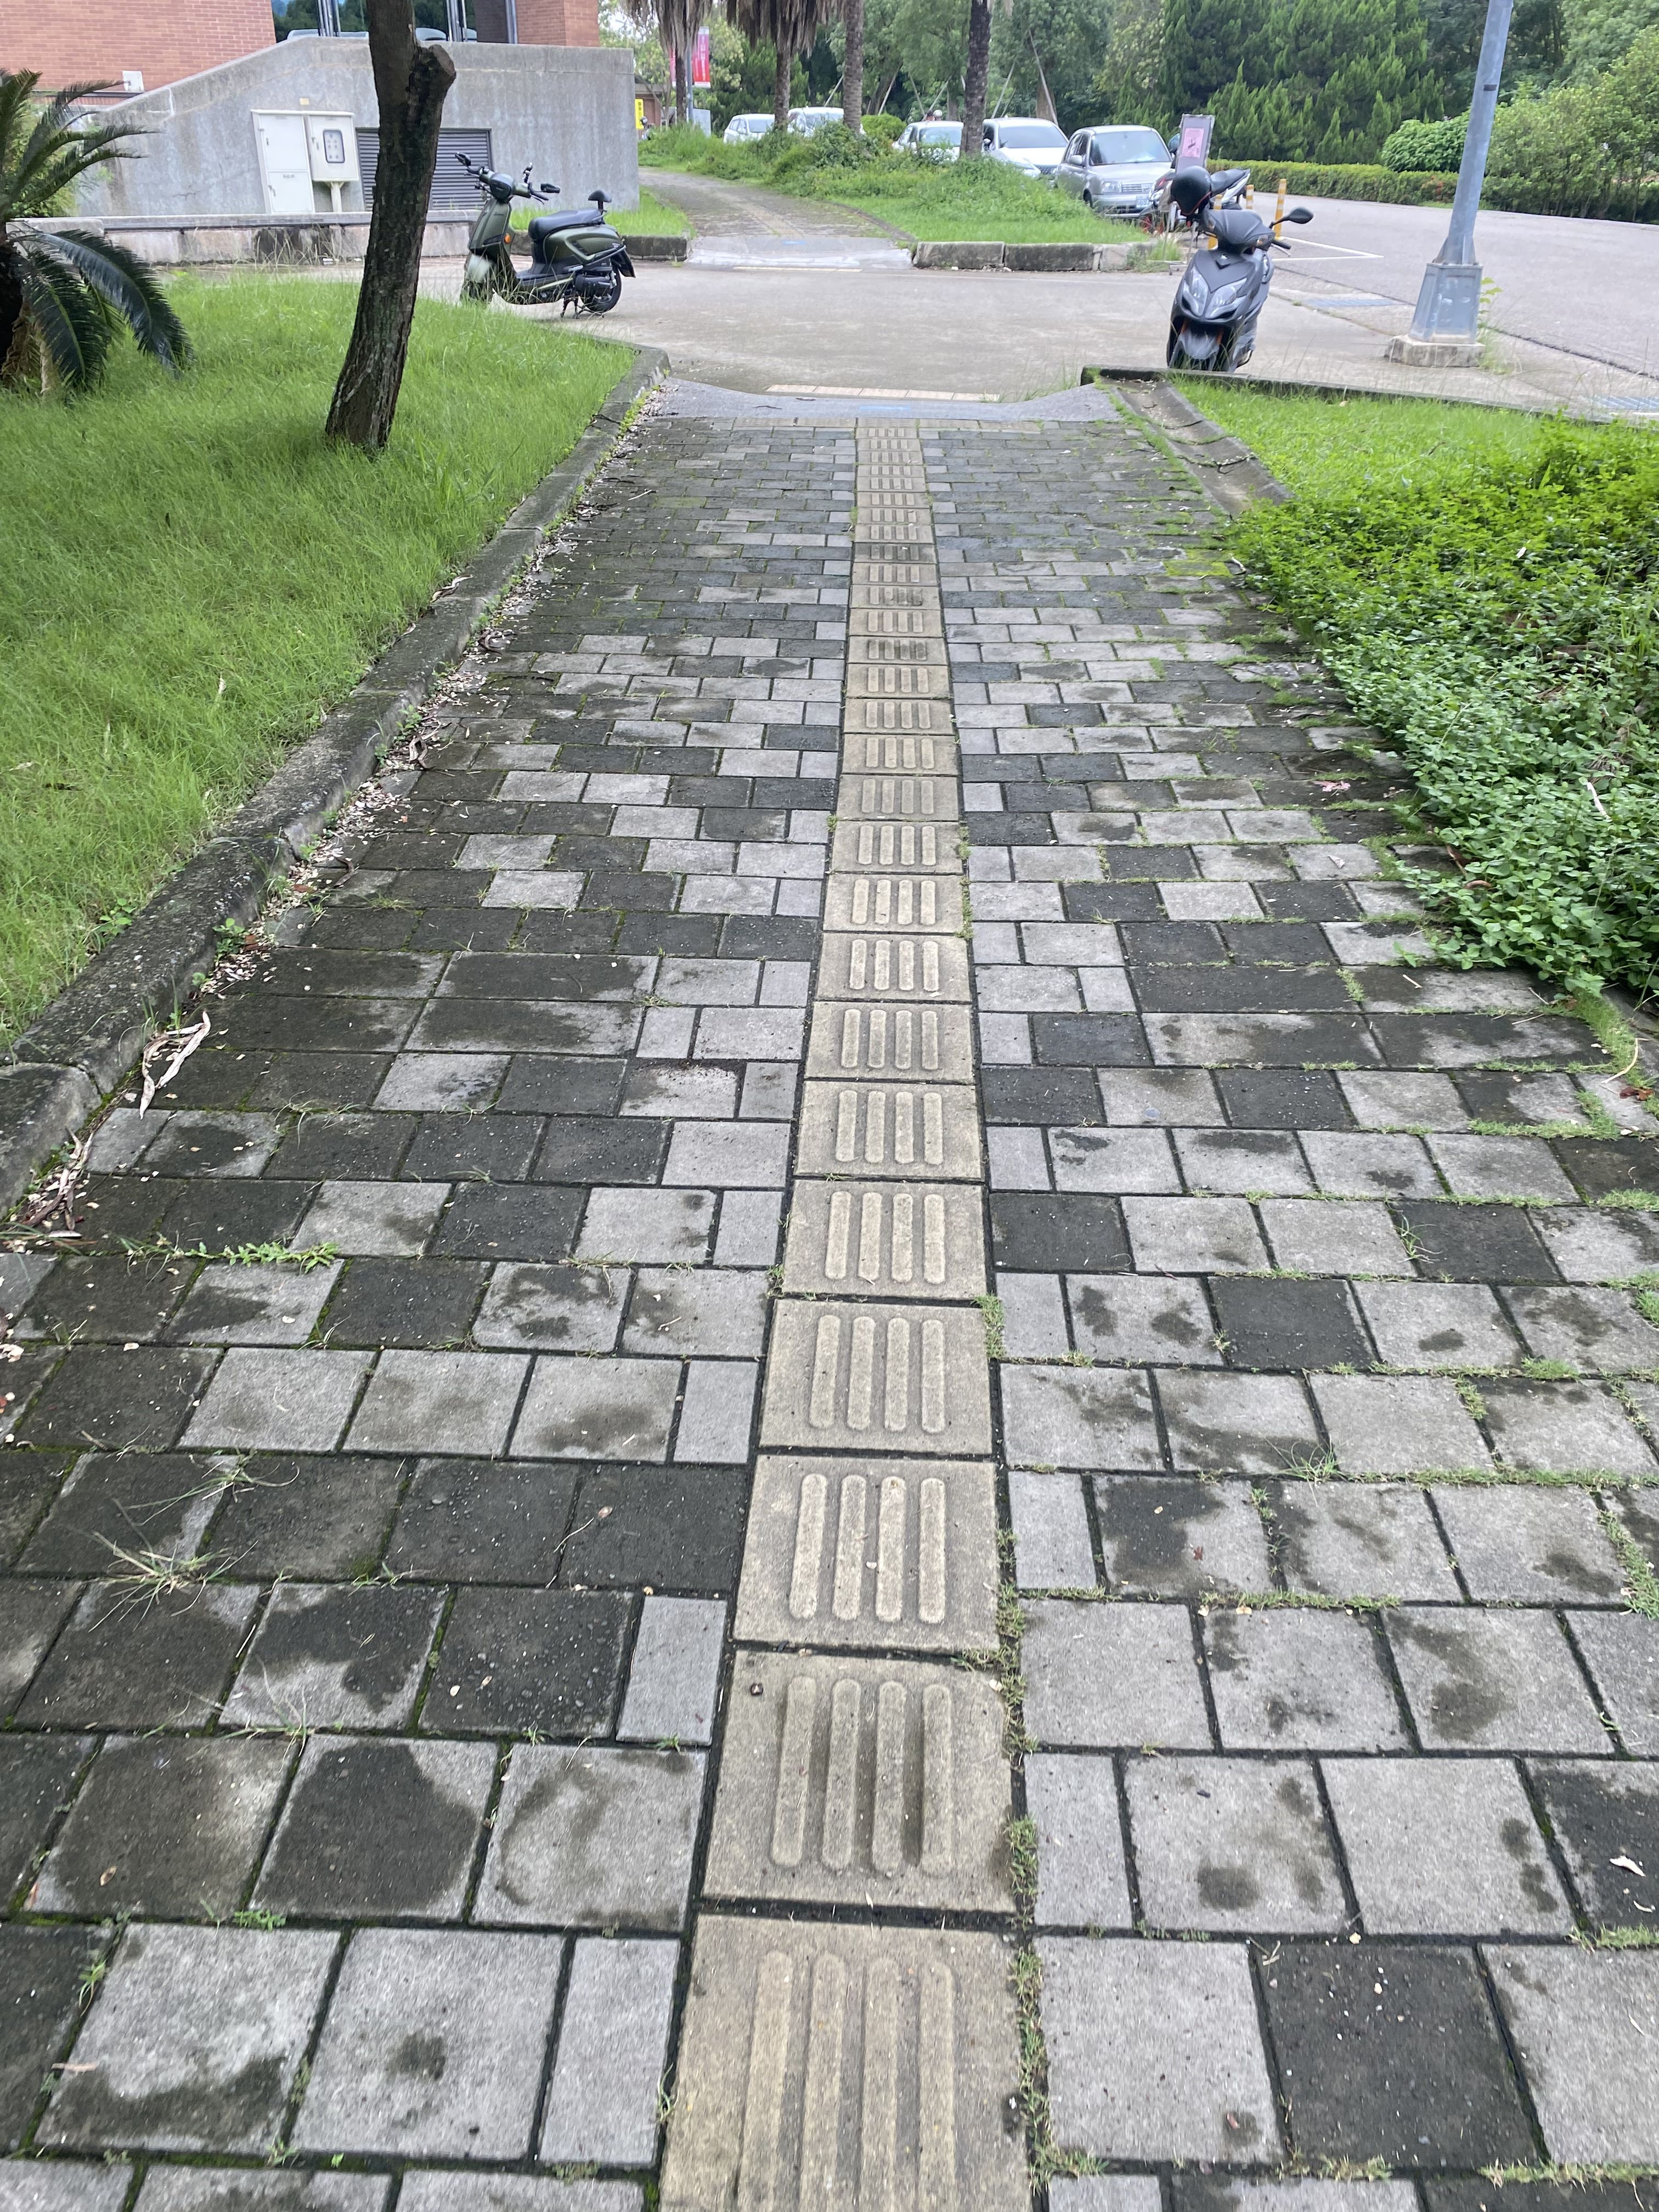sidewalk: (5, 369, 1659, 2212)
